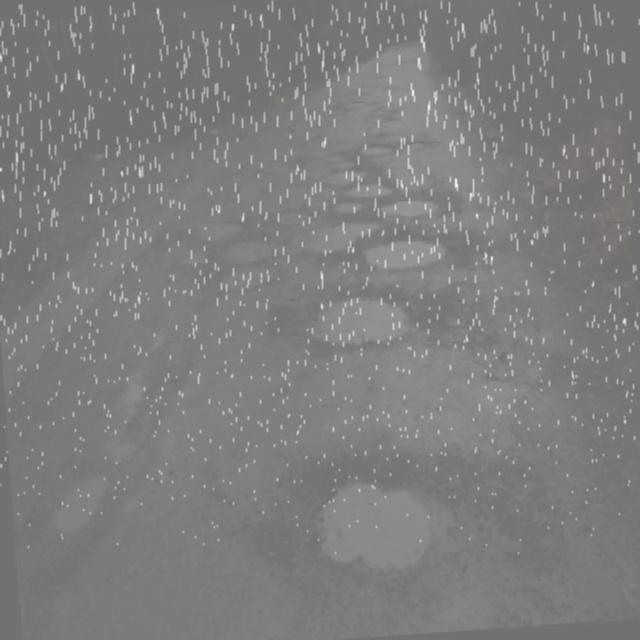Pothole: (294, 429, 493, 605), (75, 319, 213, 453), (292, 288, 442, 364), (346, 61, 436, 158), (344, 226, 458, 281), (36, 468, 106, 547), (318, 165, 397, 212), (384, 192, 469, 228), (277, 224, 380, 252), (223, 241, 276, 277), (192, 218, 248, 240)
